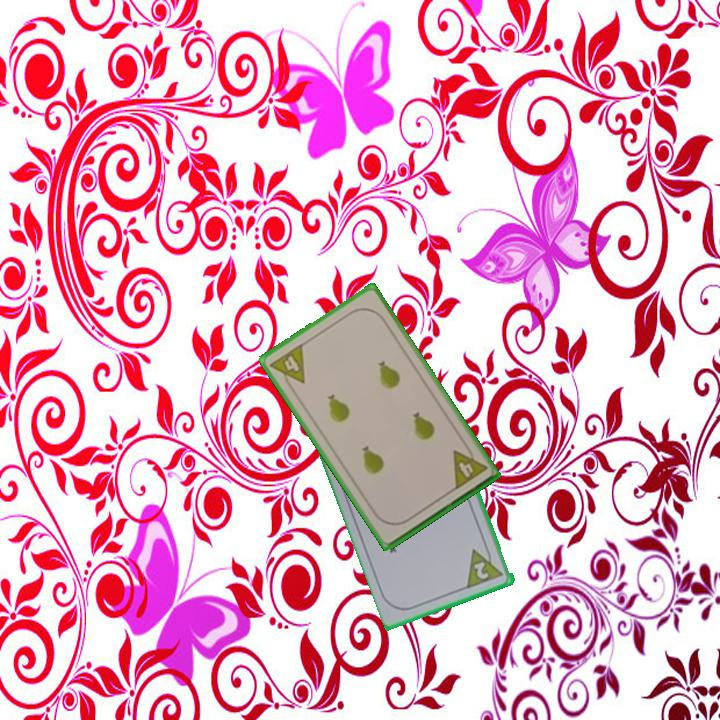2p: (471, 558, 492, 582)
4p: (266, 340, 308, 393), (449, 440, 490, 493)
